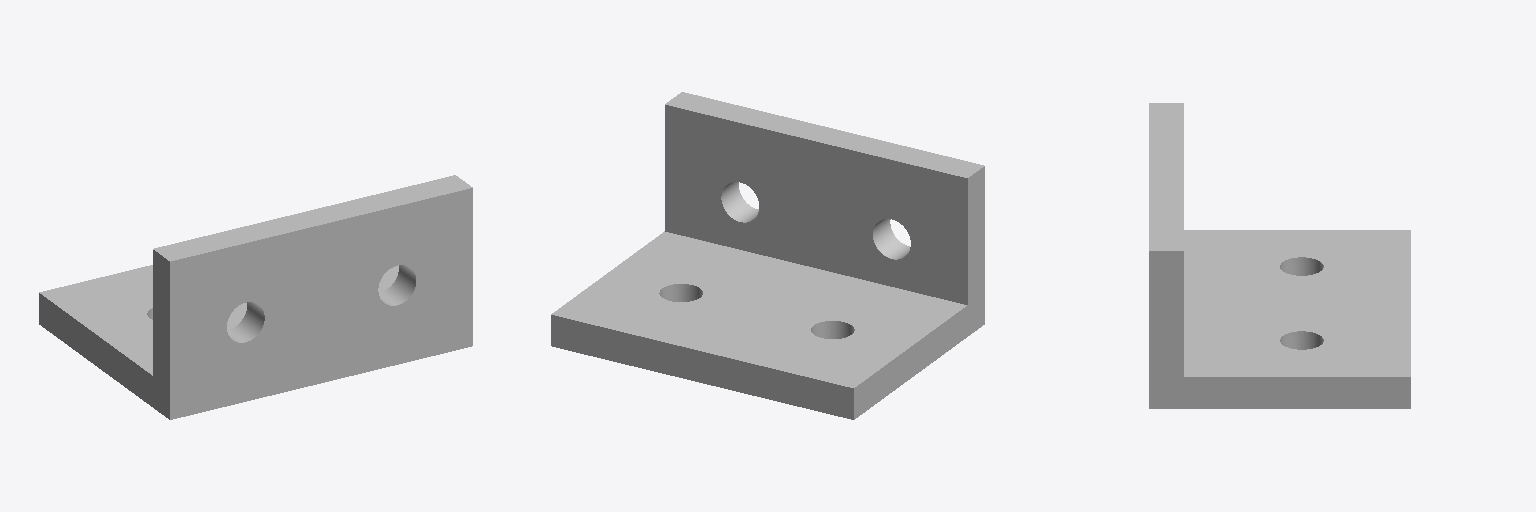
File: gantry_bracket_2x.obj
3 views of the same model, side by side, from view 1: azimuth 30°, elevation 25°; view 2: azimuth 150°, elevation 25°; view 3: azimuth 270°, elevation 25° (orthographic).
Parts seen in each view (by area): view 1: gantry_bracket_2x; view 2: gantry_bracket_2x; view 3: gantry_bracket_2x.
Part boxes in pixels (left/top/right/bottom): gantry_bracket_2x: left=39, top=175, right=472, bottom=419; gantry_bracket_2x: left=551, top=92, right=984, bottom=419; gantry_bracket_2x: left=1149, top=103, right=1410, bottom=408.
Bounding box in the file's own units: 40 × 20 × 30.